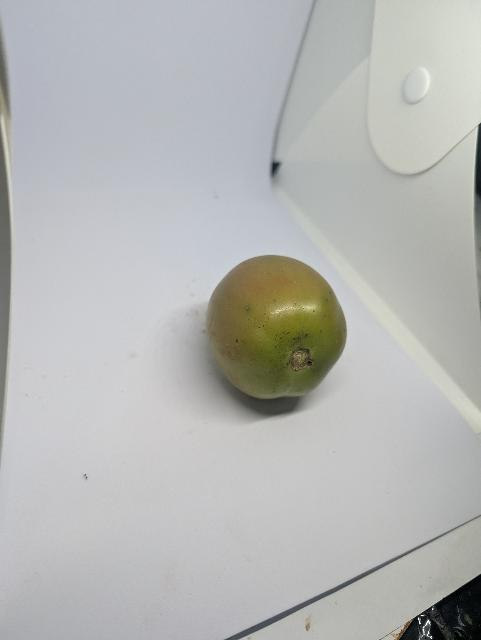breaker: (198, 251, 356, 413)
